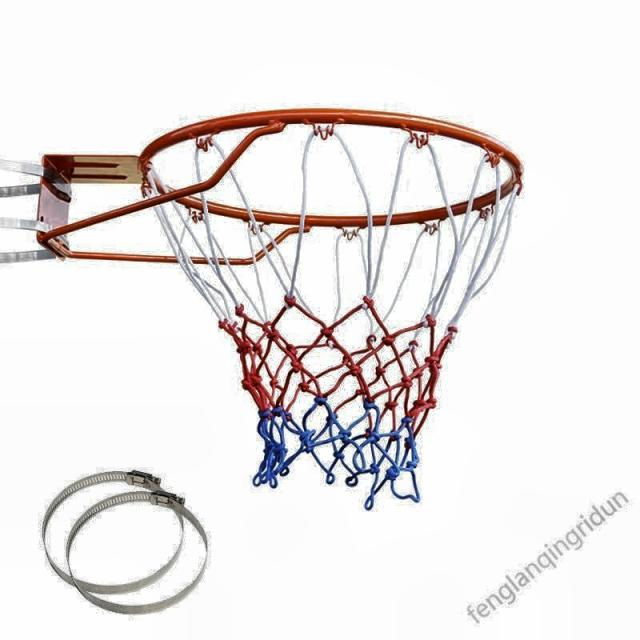rim: (146, 108, 525, 503)
